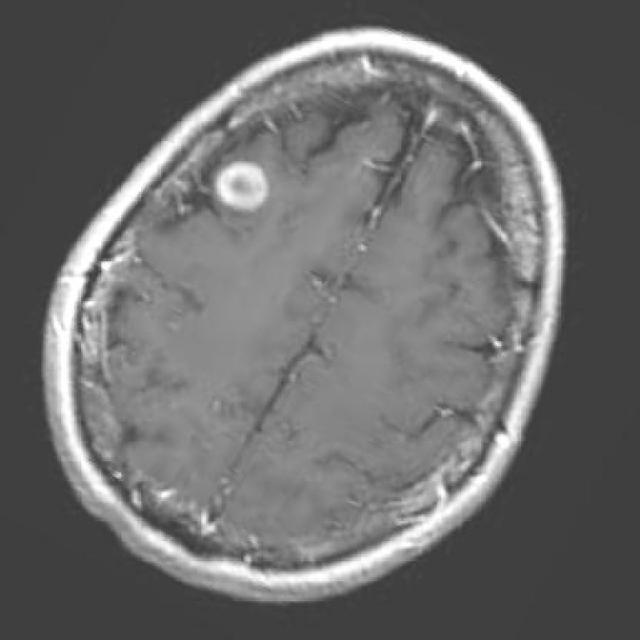Brain-Tumor: (211, 148, 285, 216)
